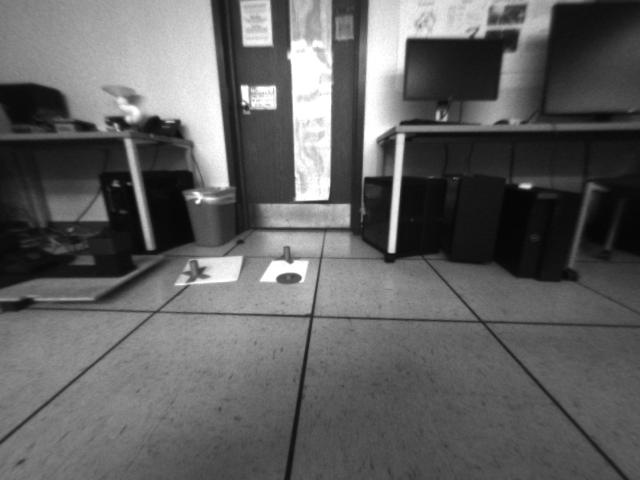X: (269, 243, 303, 266), (182, 258, 212, 282)
